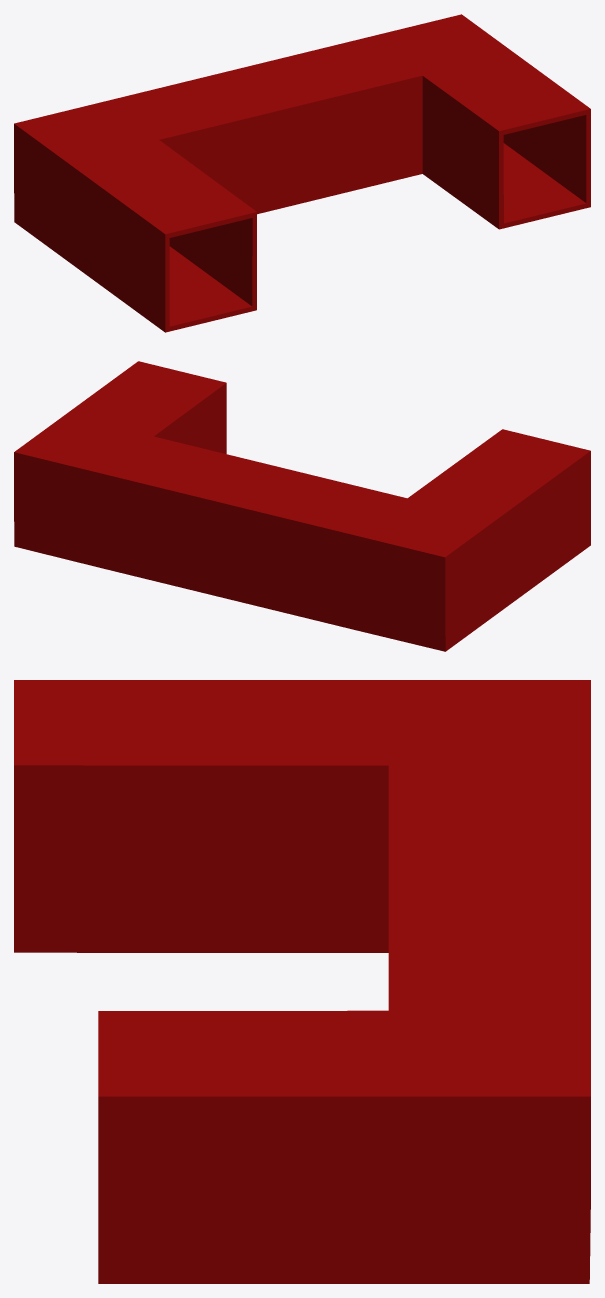
Rendered from VentventThree_real.fbx.
3 renders of one model, top to bottom at view 1: azimuth 30°, elevation 25°; view 2: azimuth 150°, elevation 25°; view 3: azimuth 270°, elevation 25°, orthographic. The views are drawn at different scales.
Parts seen in each view (by area): view 1: ventThree_real; view 2: ventThree_real; view 3: ventThree_real.
Boxes of the visible parts, left/top/right/bottom form: ventThree_real: left=14, top=14, right=590, bottom=332; ventThree_real: left=14, top=361, right=590, bottom=651; ventThree_real: left=14, top=680, right=590, bottom=1283.
Bounding box in the file's own units: 5.92 × 1.24 × 3.47.
